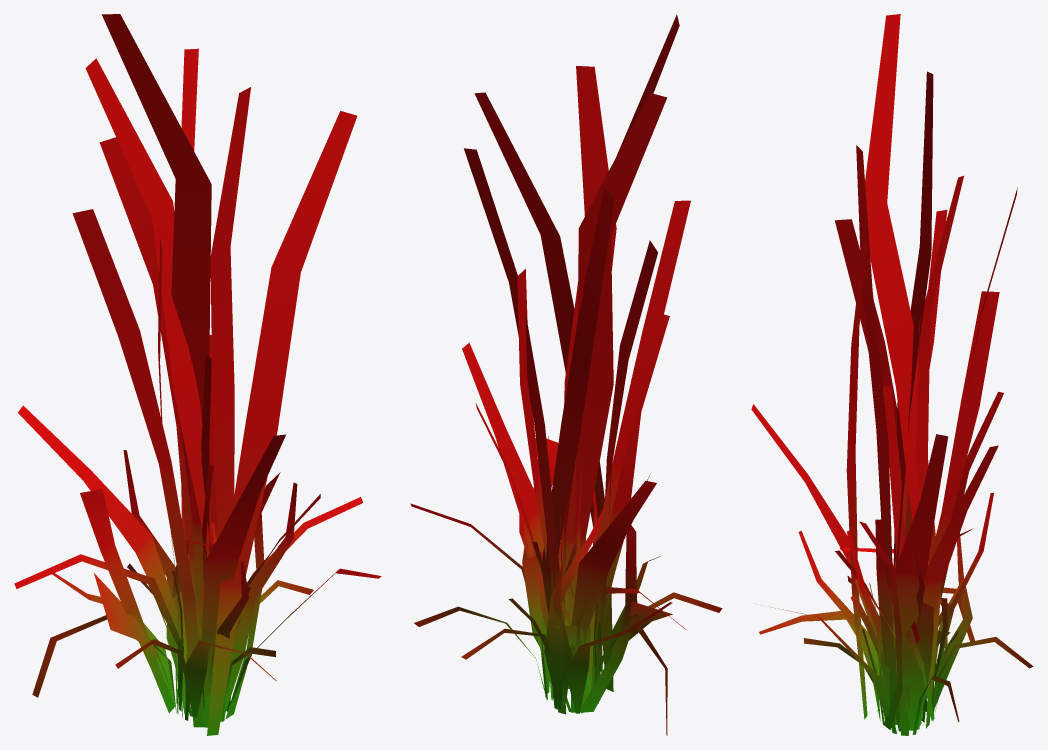
Rendered from Var5_LOD2.fbx.
The picture shows the model from 3 angles, left to right: view 1: azimuth 30°, elevation 25°; view 2: azimuth 150°, elevation 25°; view 3: azimuth 270°, elevation 25°; orthographic projection. The views are drawn at different scales.
Visible parts, largest first — view 1: _b31f_Var5_LOD2; view 2: _b31f_Var5_LOD2; view 3: _b31f_Var5_LOD2.
Boxes of the visible parts, bbox=[...] form: _b31f_Var5_LOD2: bbox=[14, 14, 381, 735]; _b31f_Var5_LOD2: bbox=[410, 14, 722, 735]; _b31f_Var5_LOD2: bbox=[751, 14, 1033, 735].
Bounding box in the file's own units: 42.82 × 94.79 × 36.29.
